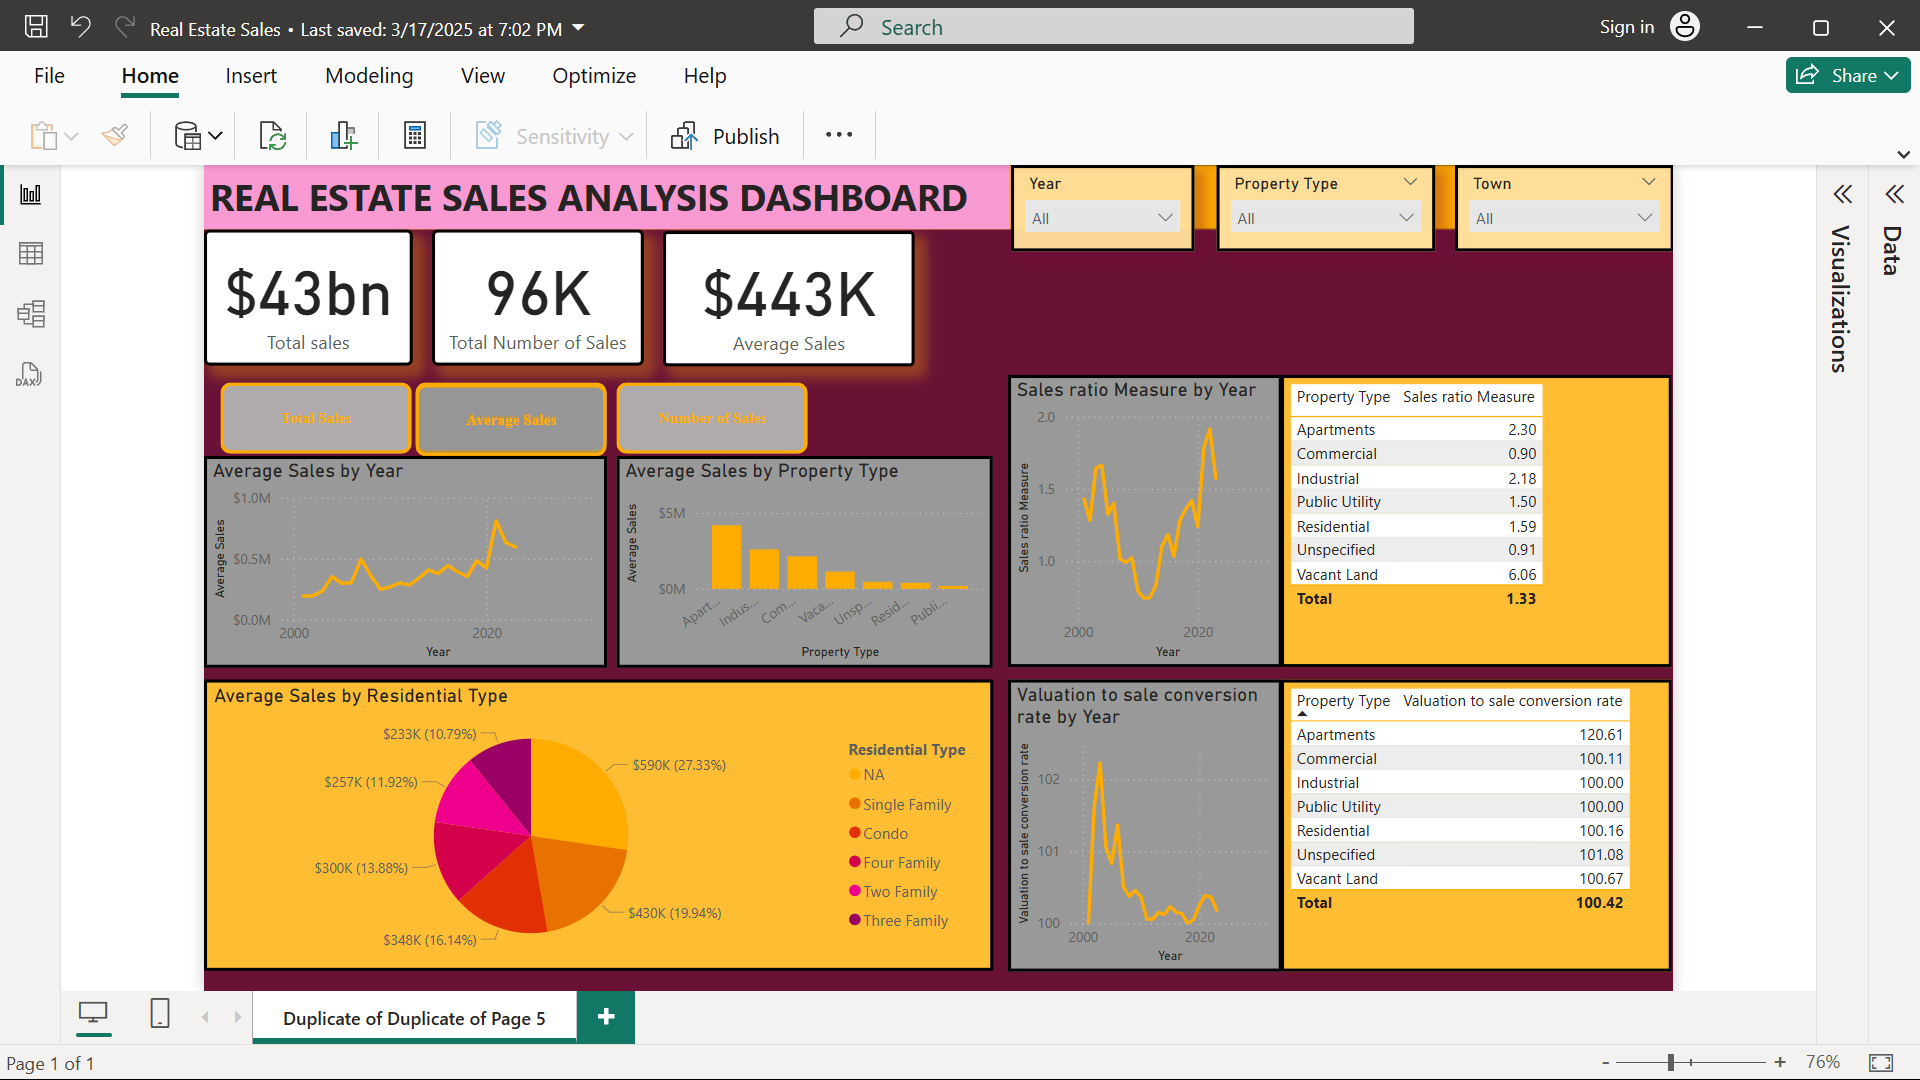

This screenshot's page, from the dashboard's own definition file:
{"tool":"powerbi","page":{"name":"Duplicate of Duplicate of Page 5","canvas":[1280,720],"ordinal":0},"visuals":[{"type":"shape","box":[0,0,1279.5,56],"z":0},{"type":"card","fields":{"Values":["Real_Estate_Sales_2001-2022_GL.Total sales"]},"box":[0,56.2,181.7,119],"z":1000},{"type":"card","fields":{"Values":["Real_Estate_Sales_2001-2022_GL.Total Number of Sales"]},"box":[198.7,56.2,184.4,119],"z":4000},{"type":"card","fields":{"Values":["Real_Estate_Sales_2001-2022_GL.Average Sales"]},"box":[400.1,57.5,219.7,117.7],"z":5000},{"type":"lineChart","fields":{"Y":["Real_Estate_Sales_2001-2022_GL.Valuation to sale conversion rate"],"Category":["CALENDAR.Date Hierachy.Year"]},"box":[700.4,448.7,238.7,254.5],"z":6000},{"type":"barChart","fields":{"Category":["Real_Estate_Sales_2001-2022_GL.Property Type"],"Y":["Real_Estate_Sales_2001-2022_GL.Valuation to sale conversion rate"]},"box":[939.1,448.7,340.8,254.5],"z":7000},{"type":"slicer","fields":{"Values":["CALENDAR.Year"]},"box":[702.9,0,159.8,75.1],"z":8000},{"type":"slicer","fields":{"Values":["Real_Estate_Sales_2001-2022_GL.Property Type"]},"box":[882,0,190.7,75.1],"z":9000},{"type":"slicer","fields":{"Values":["Real_Estate_Sales_2001-2022_GL.Town"]},"box":[1090,0,190.7,75.1],"z":10000},{"type":"ribbonChart","fields":{"Y":["Real_Estate_Sales_2001-2022_GL.Total Number of Sales"],"Category":["CALENDAR.Date Hierachy.Year"],"Series":["Real_Estate_Sales_2001-2022_GL.Property Type"]},"box":[0,448.7,687.8,254],"z":15000},{"type":"clusteredColumnChart","fields":{"Y":["Real_Estate_Sales_2001-2022_GL.Total Number of Sales"],"Category":["Real_Estate_Sales_2001-2022_GL.Residential Type"]},"box":[0,254,687.8,183.1],"z":16000},{"type":"actionButton","title":"Inact Number of Sales","box":[359,190,166.6,62.1],"z":17000},{"type":"actionButton","title":"Inac Avg sales","box":[184,190,166.6,62.1],"z":18000},{"type":"actionButton","title":"Inact Total Sales","box":[14,190,166.6,62.1],"z":19000},{"type":"actionButton","title":"Act Num of Sales","box":[359.6,191,166.6,63],"z":20000},{"type":"textbox","box":[0,0,702.6,56],"z":23000},{"type":"lineChart","fields":{"Y":["Real_Estate_Sales_2001-2022_GL.Sales ratio Measure"],"Category":["CALENDAR.Date Hierachy.Year"]},"box":[700.4,182.6,238.7,254.5],"z":24000},{"type":"barChart","fields":{"Category":["Real_Estate_Sales_2001-2022_GL.Property Type"],"Y":["Real_Estate_Sales_2001-2022_GL.Sales ratio Measure"]},"box":[939.1,182.6,340.8,254.5],"z":25000}]}

Visuals, with their boxes on the page's 1280x720 design canvas (x1, y1, x2, y2). These are canvas units, not pixel positions in the 1920x1080 screenshot, which may show the page scaled, cropped or inside an application window:
shape: <box>0,0,1280,56</box>
card - Real_Estate_Sales_2001-2022_GL.Total sales: <box>0,56,182,175</box>
card - Real_Estate_Sales_2001-2022_GL.Total Number of Sales: <box>199,56,383,175</box>
card - Real_Estate_Sales_2001-2022_GL.Average Sales: <box>400,58,620,175</box>
lineChart - Real_Estate_Sales_2001-2022_GL.Valuation to sale conversion rate x CALENDAR.Date Hierachy.Year: <box>700,449,939,703</box>
barChart - Real_Estate_Sales_2001-2022_GL.Property Type x Real_Estate_Sales_2001-2022_GL.Valuation to sale conversion rate: <box>939,449,1280,703</box>
slicer - CALENDAR.Year: <box>703,0,863,75</box>
slicer - Real_Estate_Sales_2001-2022_GL.Property Type: <box>882,0,1073,75</box>
slicer - Real_Estate_Sales_2001-2022_GL.Town: <box>1090,0,1281,75</box>
ribbonChart - Real_Estate_Sales_2001-2022_GL.Total Number of Sales x CALENDAR.Date Hierachy.Year: <box>0,449,688,703</box>
clusteredColumnChart - Real_Estate_Sales_2001-2022_GL.Total Number of Sales x Real_Estate_Sales_2001-2022_GL.Residential Type: <box>0,254,688,437</box>
"Inact Number of Sales" actionButton: <box>359,190,526,252</box>
"Inac Avg sales" actionButton: <box>184,190,351,252</box>
"Inact Total Sales" actionButton: <box>14,190,181,252</box>
"Act Num of Sales" actionButton: <box>360,191,526,254</box>
textbox: <box>0,0,703,56</box>
lineChart - Real_Estate_Sales_2001-2022_GL.Sales ratio Measure x CALENDAR.Date Hierachy.Year: <box>700,183,939,437</box>
barChart - Real_Estate_Sales_2001-2022_GL.Property Type x Real_Estate_Sales_2001-2022_GL.Sales ratio Measure: <box>939,183,1280,437</box>
